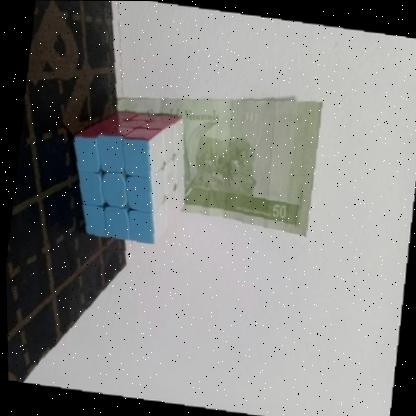fifty-back-vef: (98, 82, 324, 237)
